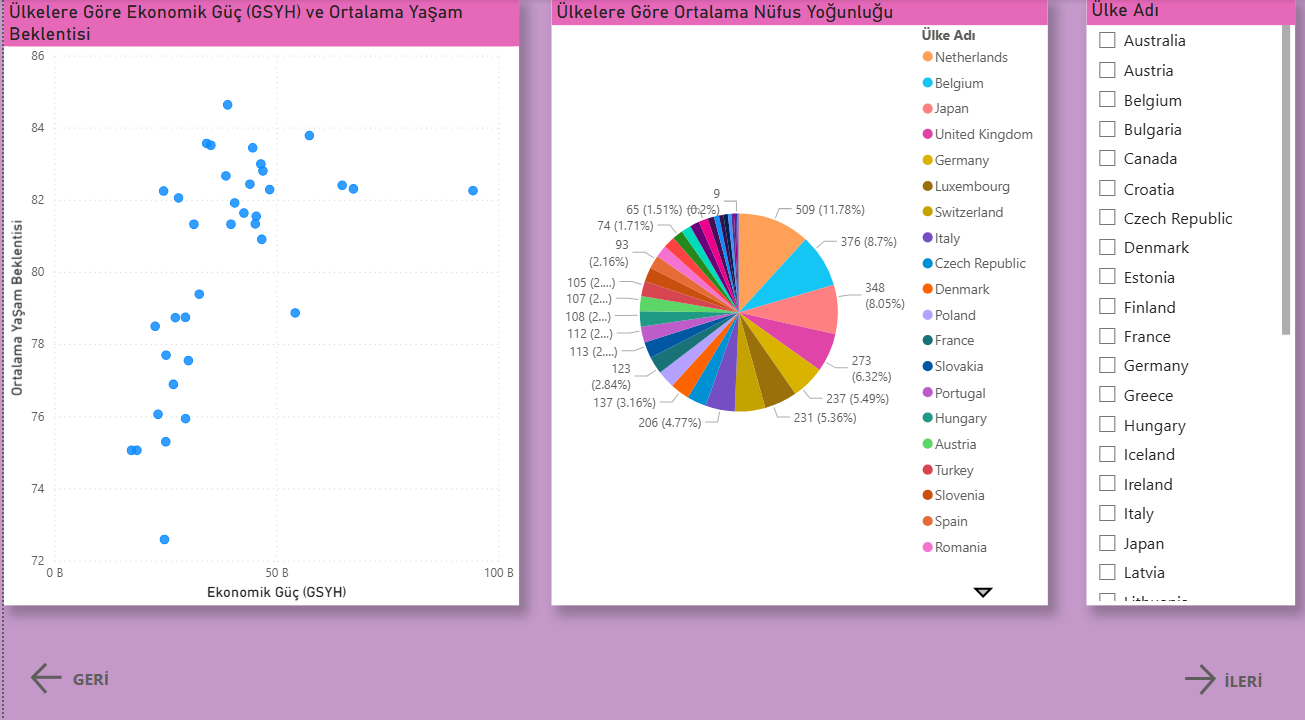

The dashboard page shown, as its layout file describes it:
{"tool":"powerbi","page":{"name":"Risk Faktörleri ve Kümeleme (Demografi Odaklı)","canvas":[1280,720],"ordinal":3},"visuals":[{"type":"scatterChart","title":"Ülkelere Göre Ekonomik Güç (GSYH) ve Ortalama Yaşam Beklentisi","fields":{"Y":["owid-covid-data.Ortalama Yaşam Beklentisi"],"X":["owid-covid-data.Ekonomik Güç (GSYH)"],"Category":["owid-covid-data.Ülke Adı"]},"box":[0,0,505.5,595.1],"z":0},{"type":"pieChart","title":"Ülkelere Göre Ortalama Nüfus Yoğunluğu","fields":{"Y":["owid-covid-data.Ortalama Nüfus Yoğunluğu"],"Category":["owid-covid-data.Ülke Adı"]},"box":[537.4,0,487.1,595.1],"z":1000},{"type":"slicer","title":"Ülke Adı","fields":{"Values":["owid-covid-data.Ülke Adı"]},"box":[1062.6,0,204.9,595.1],"z":2000},{"type":"actionButton","box":[22.1,646.6,126.4,40.5],"z":3000},{"type":"actionButton","title":"İLERİ","box":[1153.4,647.9,126.4,40.5],"z":4000}]}

Visuals, with their boxes in screenshot pixels (x1, y1, x2, y2), scaled from the page's 1280x720 canvas onto the 1305x720 screenshot:
"Ülkelere Göre Ekonomik Güç (GSYH) ve Ortalama Yaşam Beklentisi" scatterChart: locate(0, 0, 515, 595)
"Ülkelere Göre Ortalama Nüfus Yoğunluğu" pieChart: locate(548, 0, 1045, 595)
"Ülke Adı" slicer: locate(1083, 0, 1292, 595)
actionButton: locate(23, 647, 151, 687)
"İLERİ" actionButton: locate(1176, 648, 1304, 688)
